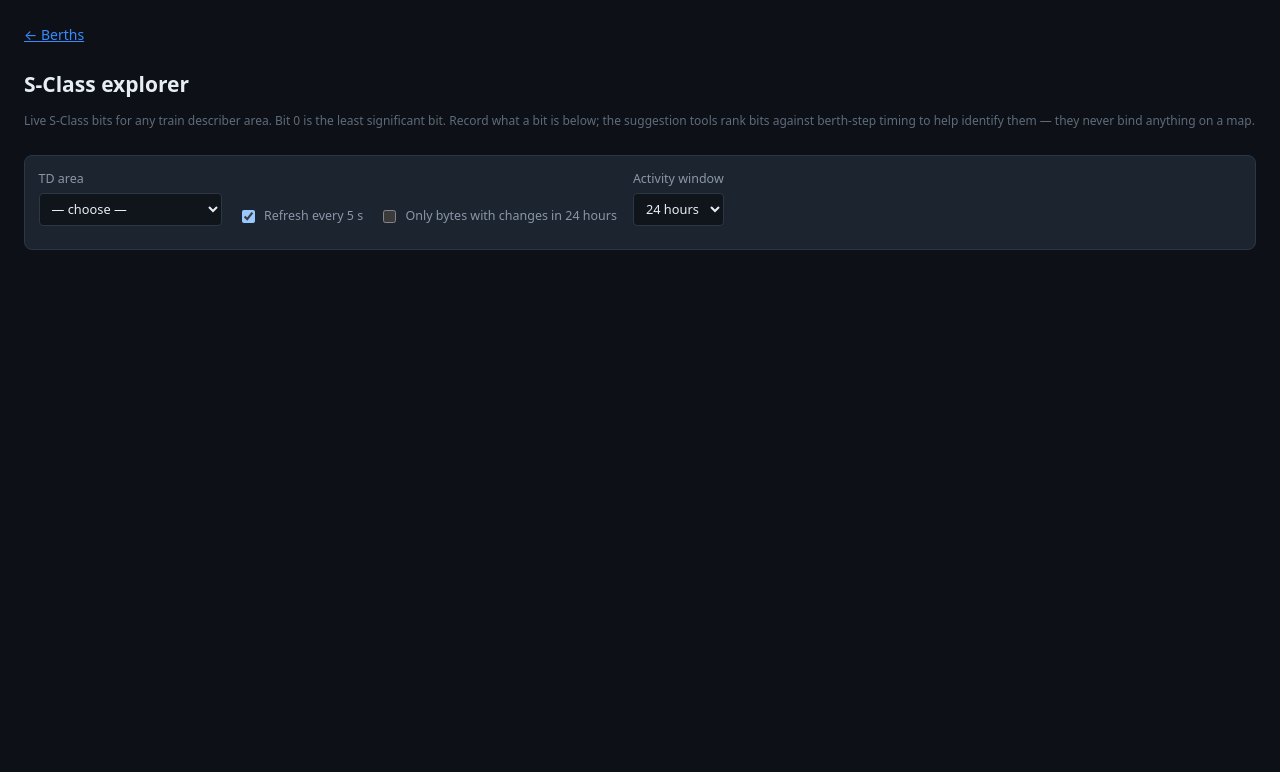
it: SClassExplorerPage (Milestone 36c) › shows an area's bit grid with definitions, and opens a bit's panel on click
Select "M9 — 2 bytes, 1 defined" in the dropdown labelled "TD area" at x=130, y=209, box [39, 193, 222, 226]
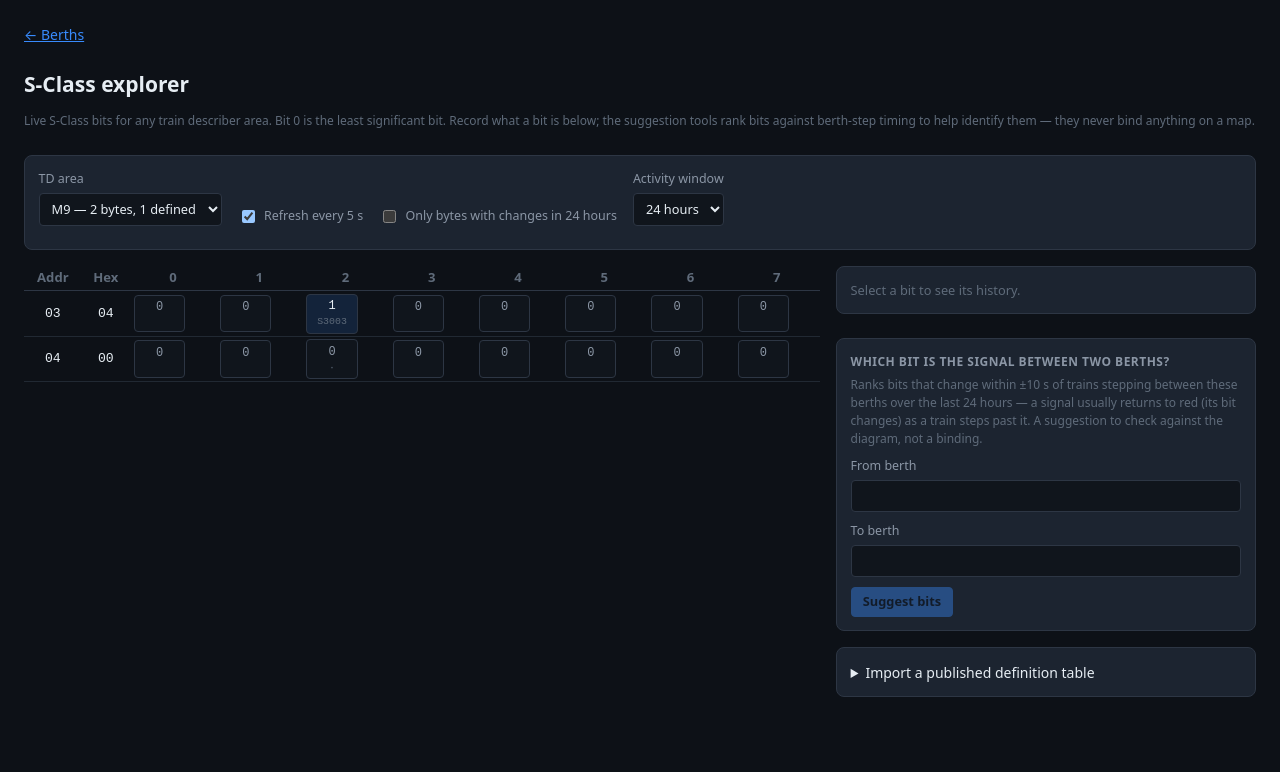
Expected: the text "S3003" is shown, [317, 315, 347, 330]
Expected: the number of rows is 3, [24, 266, 820, 291]; [24, 291, 820, 336]; [24, 336, 820, 382]
Click the button titled "03:2 = 1" at x=332, y=314, box [306, 294, 358, 334]
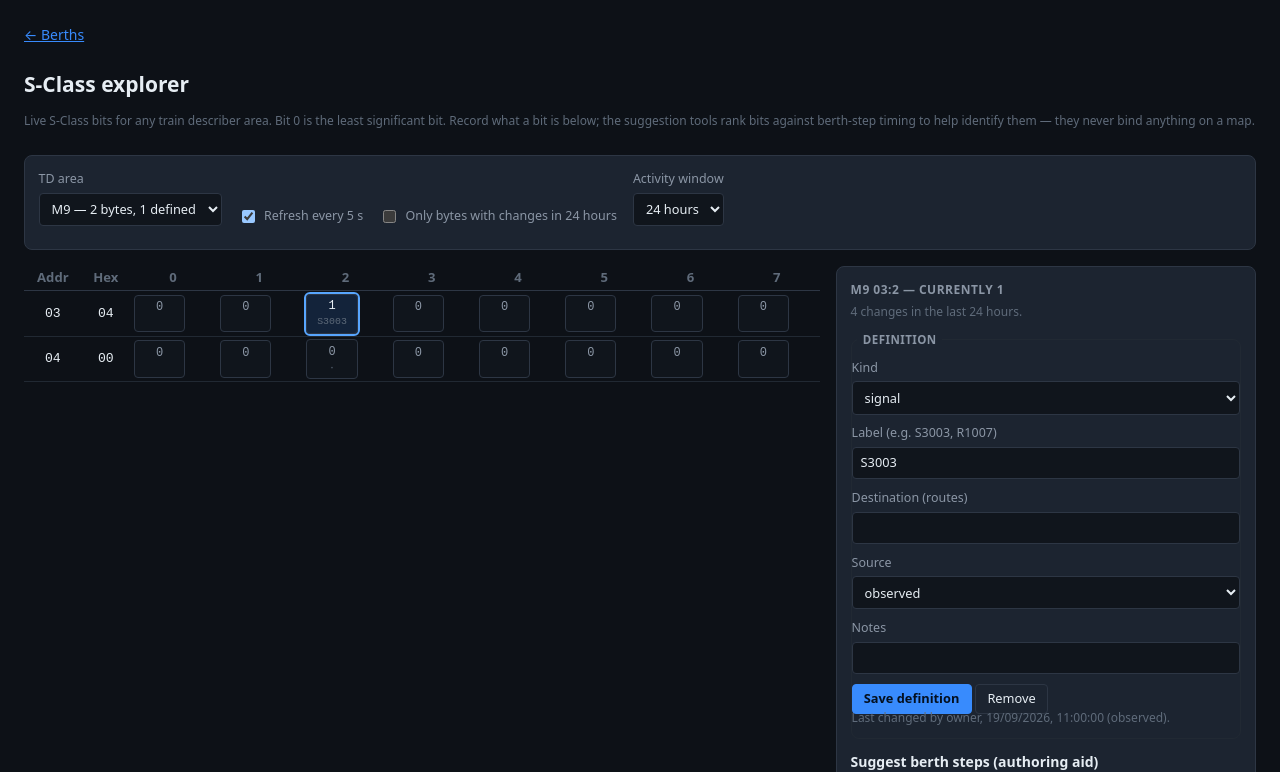
Expected: the heading "M9 03:2 — currently 1" is shown, [851, 281, 1004, 298]
Expected: the field labelled "Label (e.g. S3003, R1007)" holds "S3003", [852, 447, 1240, 479]
